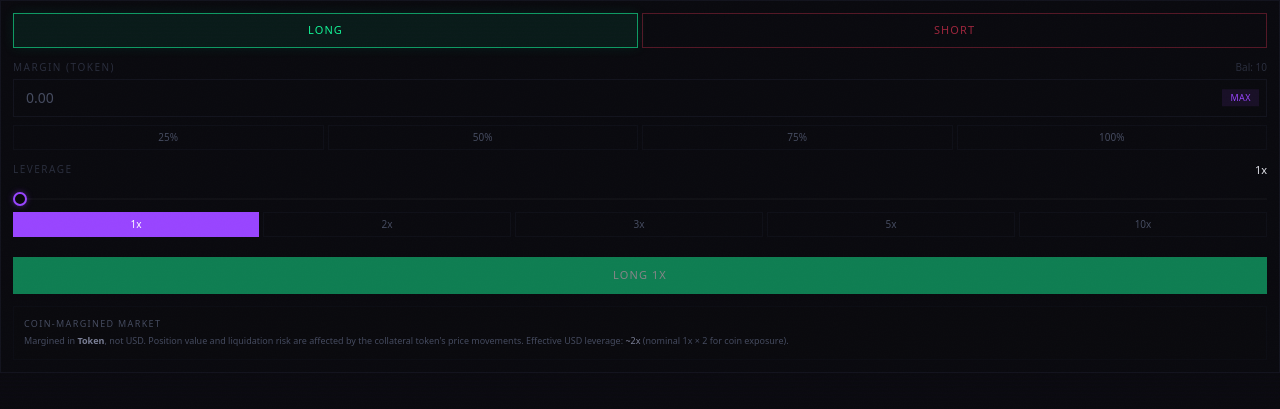
Scenario: TradeForm Component Tests › TRADE-007: Invalid amount rejected › should show error when amount exceeds balance
Type "100" into the field with placeholder "0.00" at (640, 98), box [13,78,1267,116]
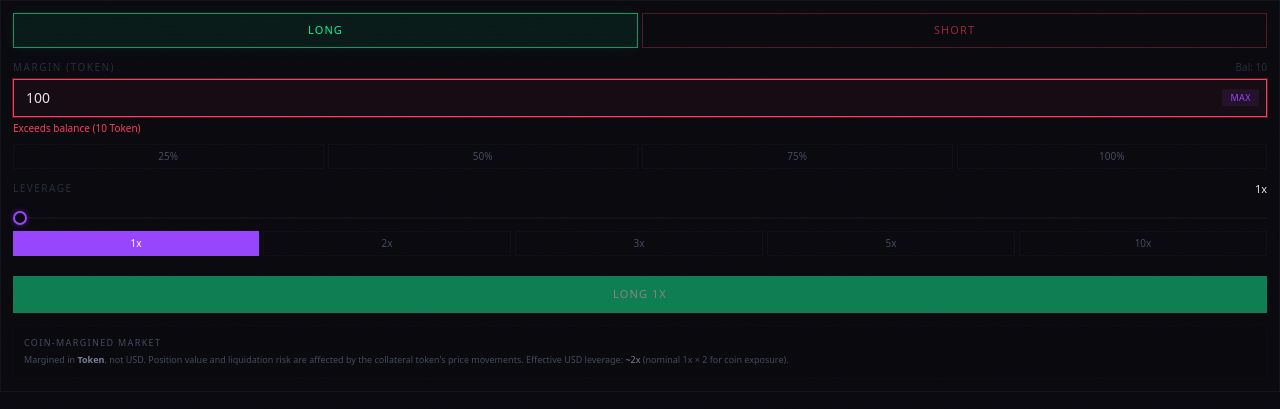
Now the text "Exceeds balance (10 Token)" is shown, box [13,120,141,134]
